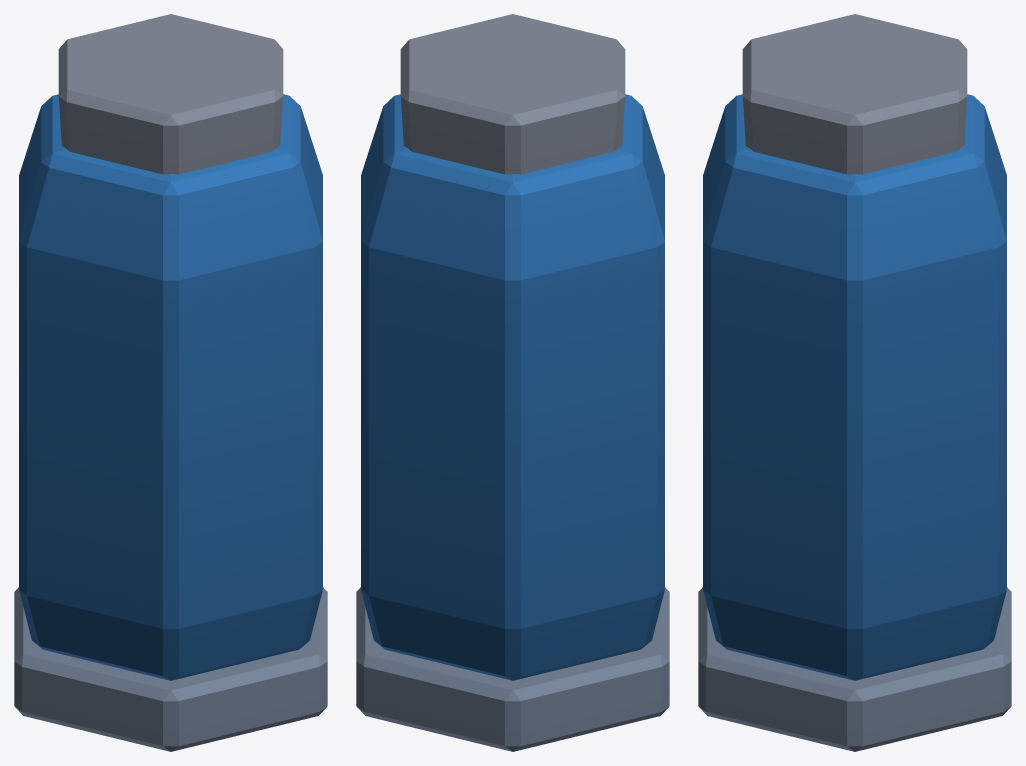
Rendered from specimen_canister.glb.
3 renders of one model, left to right at view 1: azimuth 30°, elevation 25°; view 2: azimuth 150°, elevation 25°; view 3: azimuth 270°, elevation 25°, orthographic.
Parts seen in each view (by area): view 1: specimen_canister-convcol; view 2: specimen_canister-convcol; view 3: specimen_canister-convcol.
Part boxes in pixels (left/top/right/bottom): specimen_canister-convcol: left=14, top=14, right=327, bottom=751; specimen_canister-convcol: left=356, top=14, right=669, bottom=751; specimen_canister-convcol: left=698, top=14, right=1011, bottom=751.
Bounding box in the file's own units: 0.312 × 0.6 × 0.2771.
Materials: 1 (1 with a texture image).
